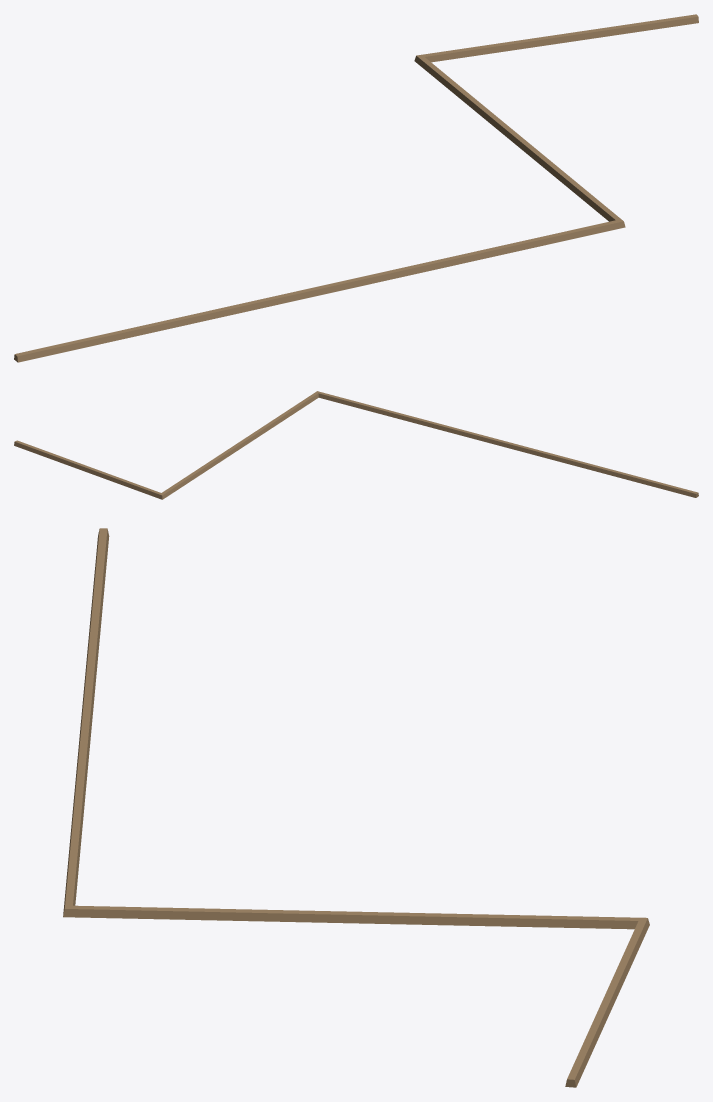
Rendered from wall-00.glb.
The picture shows the model from 3 angles, top to bottom: view 1: azimuth 30°, elevation 25°; view 2: azimuth 150°, elevation 25°; view 3: azimuth 270°, elevation 25°; orthographic projection. The views are drawn at different scales.
Parts seen in each view (by area): view 1: C_wall_A_00; view 2: C_wall_A_00; view 3: C_wall_A_00.
Boxes of the visible parts, x1=… form: C_wall_A_00: x1=14, y1=14, x2=698, y2=362; C_wall_A_00: x1=14, y1=391, x2=698, y2=499; C_wall_A_00: x1=63, y1=528, x2=649, y2=1087.
Size of the model in its own units: 928 by 6.03 by 417.
